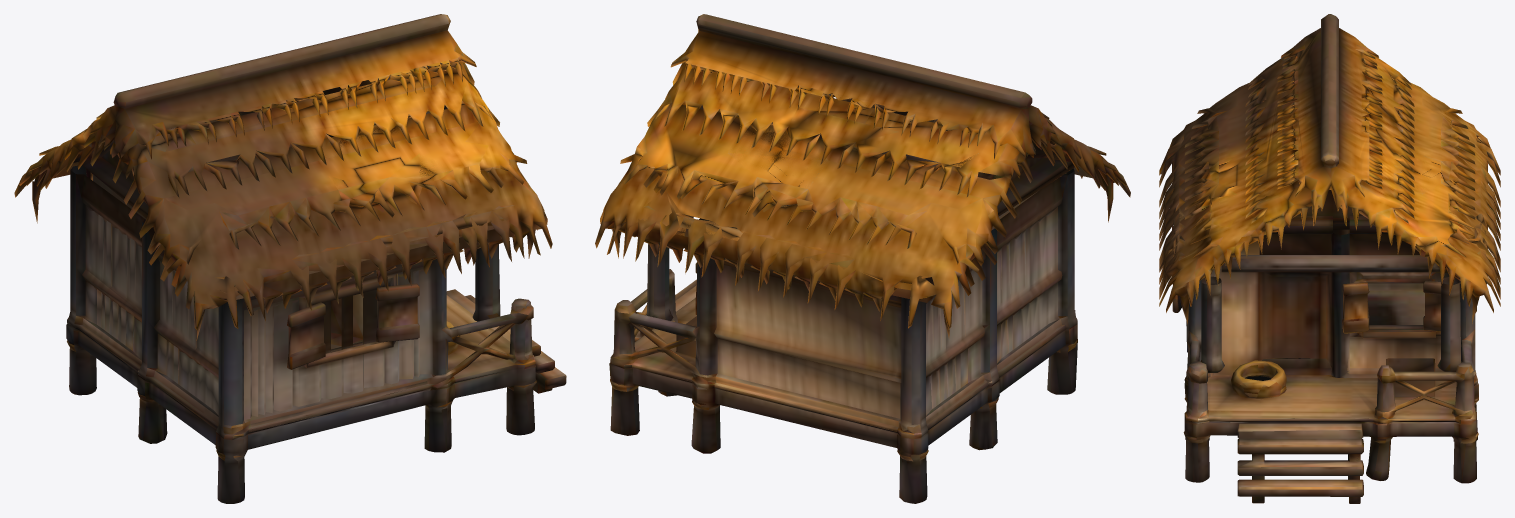
Rendered from prop-hut-stilt-thatch-v2-mobile.glb.
3 views of the same model, side by side, from view 1: azimuth 30°, elevation 25°; view 2: azimuth 150°, elevation 25°; view 3: azimuth 270°, elevation 25° (orthographic). The views are drawn at different scales.
Parts seen in each view (by area): view 1: tripo_node_e3c786c5-6224-4adf-950e-f1d62a6280cc; view 2: tripo_node_e3c786c5-6224-4adf-950e-f1d62a6280cc; view 3: tripo_node_e3c786c5-6224-4adf-950e-f1d62a6280cc.
Part boxes in pixels (x1,y1,x2,y2): tripo_node_e3c786c5-6224-4adf-950e-f1d62a6280cc: (14,14,566,503); tripo_node_e3c786c5-6224-4adf-950e-f1d62a6280cc: (595,14,1130,503); tripo_node_e3c786c5-6224-4adf-950e-f1d62a6280cc: (1159,14,1500,503).
Bounding box in the file's own units: 1 × 0.8297 × 0.7926.
Materials: 1 (1 with a texture image).
